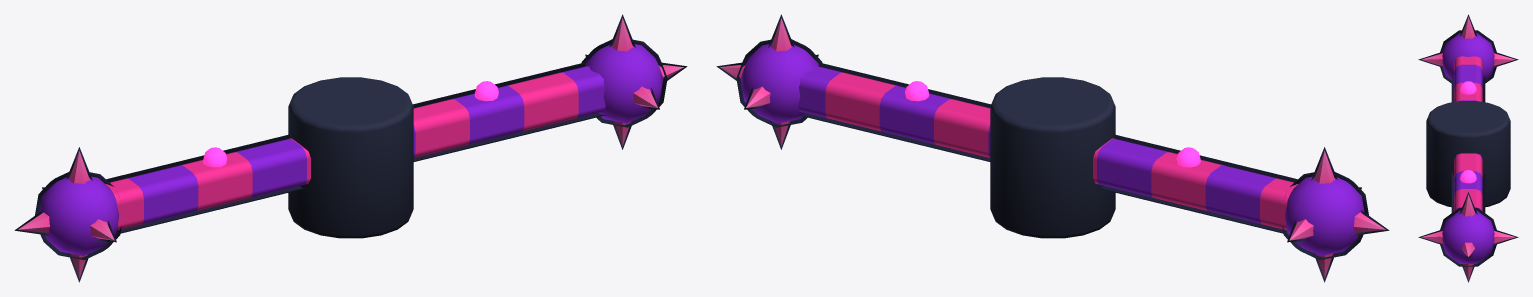
File: HAZ_Spinner.glb
The picture shows the model from 3 angles, left to right: view 1: azimuth 30°, elevation 25°; view 2: azimuth 150°, elevation 25°; view 3: azimuth 270°, elevation 25°; orthographic projection. The views are drawn at different scales.
Parts seen in each view (by area): view 1: ArmBody, Hub, ArmOutline; view 2: ArmBody, Hub, ArmOutline; view 3: ArmBody, Hub, ArmOutline, Light_1, Light_0.
Part boxes in pixels (x1=…): ArmBody: x1=18, y1=18, x2=683, y2=278; Hub: x1=288, y1=77, x2=413, y2=238; ArmOutline: x1=14, y1=14, x2=687, y2=282; ArmBody: x1=720, y1=18, x2=1385, y2=278; Hub: x1=990, y1=77, x2=1115, y2=238; ArmOutline: x1=716, y1=14, x2=1389, y2=282; ArmBody: x1=1421, y1=17, x2=1515, y2=279; Hub: x1=1426, y1=101, x2=1510, y2=207; ArmOutline: x1=1418, y1=14, x2=1518, y2=282; Light_1: x1=1460, y1=170, x2=1476, y2=183; Light_0: x1=1460, y1=81, x2=1476, y2=94.
Bounding box in the file's own units: 7.44 × 1.44 × 1.44.
